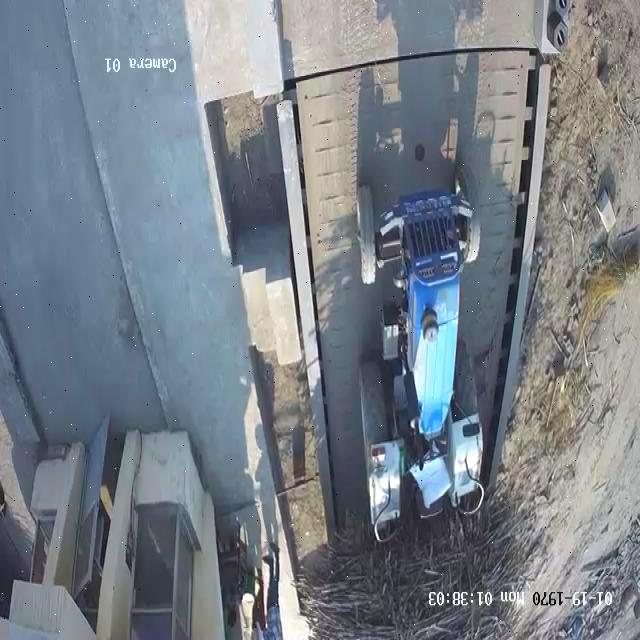Tratores - v5 YOLO V8L 2024-11-13: (338, 130, 500, 530)
